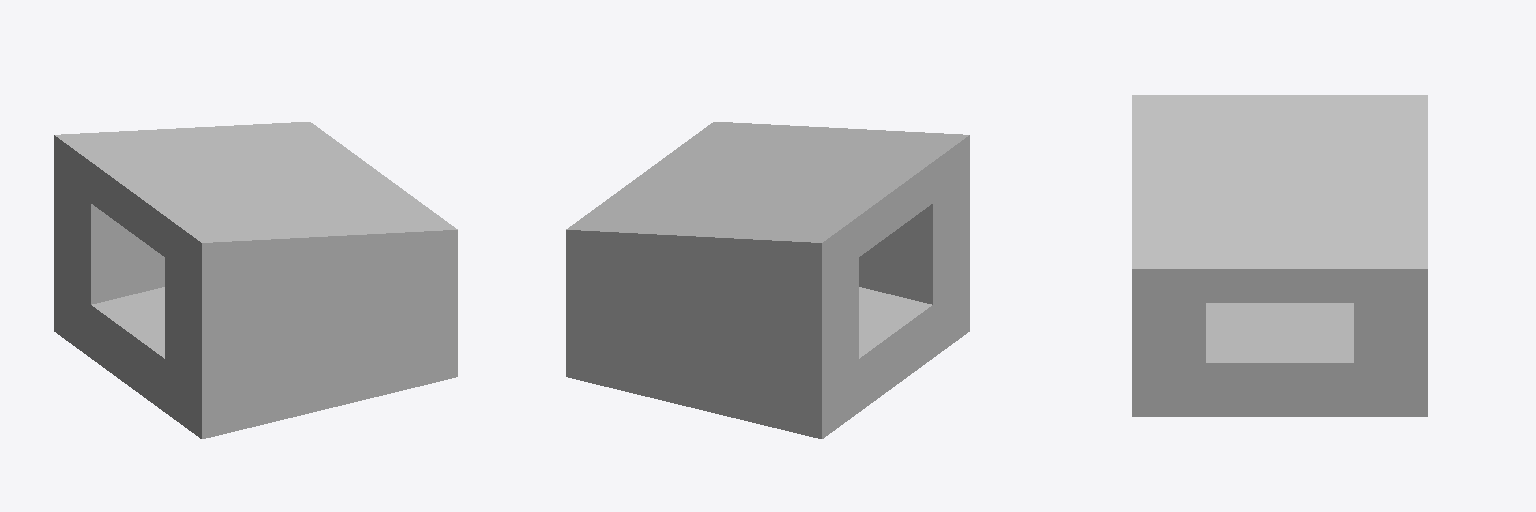
File: roadTile_224.obj
3 views of the same model, side by side, from view 1: azimuth 30°, elevation 25°; view 2: azimuth 150°, elevation 25°; view 3: azimuth 270°, elevation 25° (orthographic).
Parts seen in each view (by area): view 1: Mesh1 Group1 Model; view 2: Mesh1 Group1 Model; view 3: Mesh1 Group1 Model.
Part boxes in pixels (x1,y1,x2,y2): Mesh1 Group1 Model: (54,122,457,438); Mesh1 Group1 Model: (566,122,969,438); Mesh1 Group1 Model: (1132,95,1427,416).
Bounding box in the file's own units: 3 × 2.2 × 3.